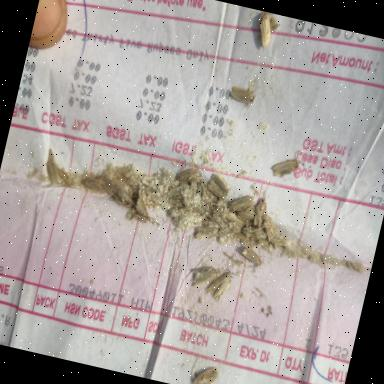pbw: (270, 145, 308, 183), (188, 260, 230, 294), (252, 178, 274, 228), (239, 237, 270, 272), (252, 11, 276, 49), (228, 84, 260, 112), (190, 356, 222, 384), (192, 180, 218, 214), (226, 190, 256, 218), (129, 192, 155, 224), (256, 212, 282, 243), (176, 162, 204, 188), (184, 188, 209, 216), (110, 185, 138, 210), (218, 206, 249, 227), (42, 160, 65, 186), (80, 174, 107, 195), (164, 203, 188, 226), (208, 173, 234, 194), (204, 179, 228, 201), (240, 224, 268, 242), (94, 176, 118, 197), (195, 223, 220, 242), (166, 180, 188, 201), (235, 202, 258, 222), (55, 169, 77, 188), (233, 230, 251, 242)
